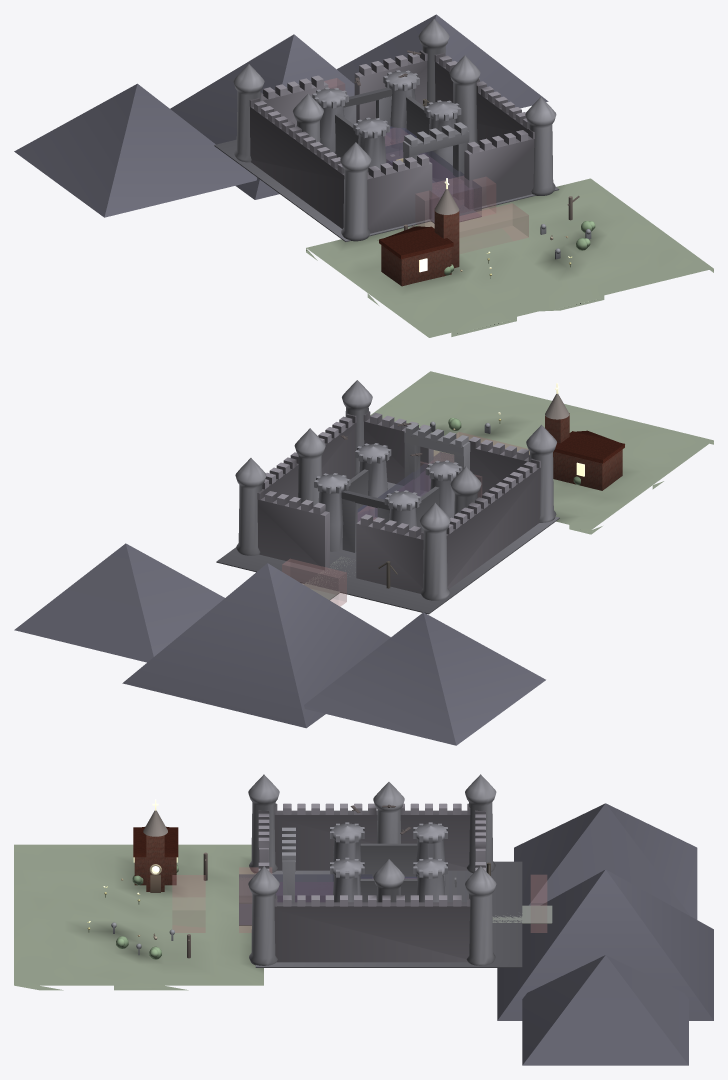
The model's file is doubting_castle.glb.
The picture shows the model from 3 angles, top to bottom: view 1: azimuth 30°, elevation 25°; view 2: azimuth 150°, elevation 25°; view 3: azimuth 270°, elevation 25°; orthographic projection.
Visible parts, largest first — view 1: ENV_Doubting_ByPathMeadow, VIS_PROP_Ridge_Storm (×3), PROP_CastleWall_Left, VIS_PROP_Chapel (×3), PROP_CastleWall_FrontR, PROP_CastleWall_FrontL, TRIGGER_ByPathChoice, ENV_Doubting_CastleExterior, COL_CastleDarkHall, PROP_CastleTower_FrontLeft, TRIGGER_Capture, PROP_CastleTower_FrontRight (+16 smaller); view 2: VIS_PROP_Ridge_Storm (×3), ENV_Doubting_ByPathMeadow, ENV_Doubting_CastleExterior, PROP_CastleWall_Left, PROP_CastleWall_BackR, PROP_CastleWall_BackL, VIS_PROP_Chapel (×2), PROP_CastleTower_BackLeft, PROP_CastleWall_Right, PROP_CastleTower_BackRight, PROP_CastleWall_FrontR, TRIGGER_Exit_DelectableMountains (+12 smaller); view 3: VIS_PROP_Ridge_Storm (×3), ENV_Doubting_ByPathMeadow, PROP_CastleWall_Right, PROP_CastleWall_Left, ENV_Doubting_CastleExterior, PROP_CastleTower_FrontRight, PROP_CastleTower_BackRight, VIS_PROP_Chapel (×3), TRIGGER_ByPathChoice, COL_CastleDarkHall, PROP_CastleTower_FrontLeft, PROP_CastleTower_BackLeft (+12 smaller).
Boxes of the visible parts, <box> form: ENV_Doubting_ByPathMeadow: <box>306,178,713,337</box>; VIS_PROP_Ridge_Storm (×3): <box>14,14,548,217</box>; PROP_CastleWall_Left: <box>250,107,344,228</box>; VIS_PROP_Chapel (×3): <box>379,208,459,286</box>; PROP_CastleWall_FrontR: <box>464,136,534,208</box>; PROP_CastleWall_FrontL: <box>367,161,432,233</box>; TRIGGER_ByPathChoice: <box>459,203,528,253</box>; ENV_Doubting_CastleExterior: <box>214,139,559,241</box>; COL_CastleDarkHall: <box>385,142,481,222</box>; PROP_CastleTower_FrontLeft: <box>340,142,371,241</box>; TRIGGER_Capture: <box>416,176,495,227</box>; PROP_CastleTower_FrontRight: <box>525,97,556,195</box>; VIS_PROP_Ridge_Storm (×3): <box>14,543,545,745</box>; ENV_Doubting_ByPathMeadow: <box>370,371,713,534</box>; ENV_Doubting_CastleExterior: <box>216,482,559,614</box>; PROP_CastleWall_Left: <box>446,468,540,589</box>; PROP_CastleWall_BackR: <box>257,497,329,570</box>; PROP_CastleWall_BackL: <box>356,520,423,593</box>; VIS_PROP_Chapel (×2): <box>553,431,624,490</box>; PROP_CastleTower_BackLeft: <box>419,502,450,600</box>; PROP_CastleWall_Right: <box>265,422,356,499</box>; PROP_CastleTower_BackRight: <box>235,458,266,555</box>; PROP_CastleWall_FrontR: <box>364,418,433,491</box>; TRIGGER_Exit_DelectableMountains: <box>282,559,346,606</box>; VIS_PROP_Ridge_Storm (×3): <box>497,803,713,1065</box>; ENV_Doubting_ByPathMeadow: <box>14,844,263,990</box>; PROP_CastleWall_Right: <box>274,902,469,962</box>; PROP_CastleWall_Left: <box>274,810,469,870</box>; ENV_Doubting_CastleExterior: <box>255,861,522,967</box>; PROP_CastleTower_FrontRight: <box>248,866,279,965</box>; PROP_CastleTower_BackRight: <box>465,866,496,965</box>; VIS_PROP_Chapel (×3): <box>133,827,178,891</box>; TRIGGER_ByPathChoice: <box>172,875,205,932</box>; COL_CastleDarkHall: <box>239,874,372,924</box>; PROP_CastleTower_FrontLeft: <box>248,774,279,873</box>; PROP_CastleTower_BackLeft: <box>465,774,496,873</box>.
Bounding box in the file's own units: 63 × 21.18 × 84.
Materials: 49 (2 with a texture image).
